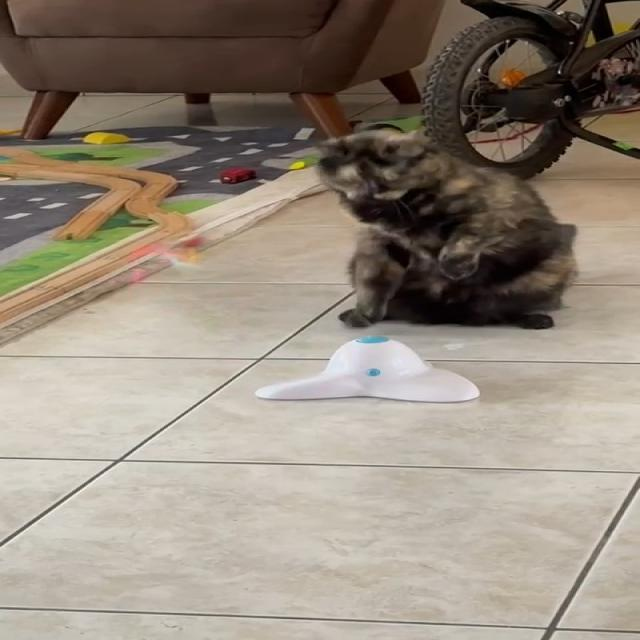authorized: (313, 123, 579, 330)
